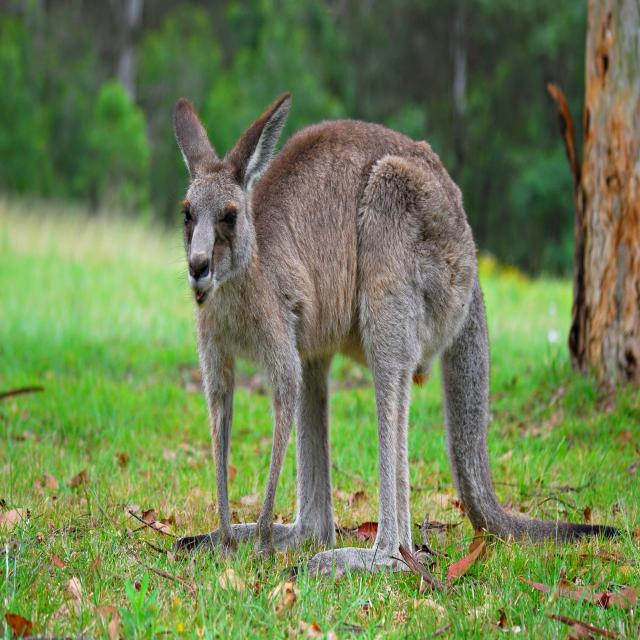kangaroo: (174, 93, 616, 576)
